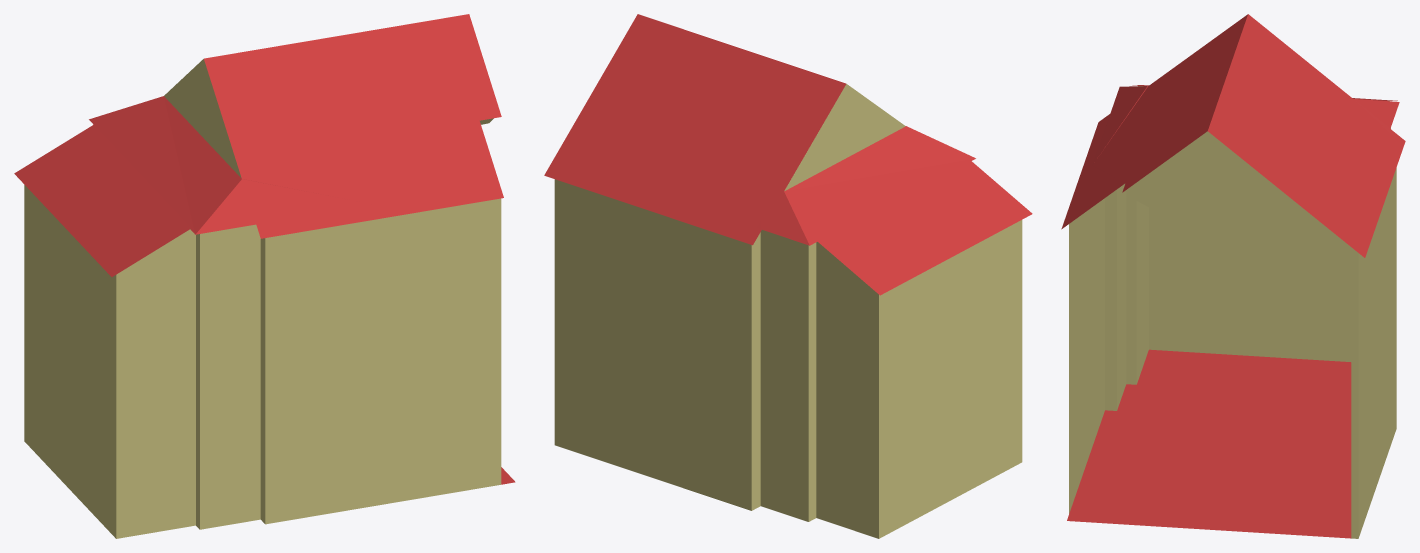
3 renders of one model, left to right at view 1: azimuth 30°, elevation 25°; view 2: azimuth 150°, elevation 25°; view 3: azimuth 270°, elevation 25°, orthographic. The views are drawn at different scales.
Size of the model in its own units: 14.9 by 11.02 by 14.19.
